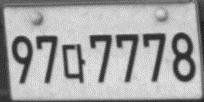7: (88, 34, 112, 82), (115, 33, 138, 83), (142, 32, 165, 82), (35, 35, 58, 83)
8: (170, 31, 196, 82)
9: (11, 34, 33, 83)
다: (61, 43, 86, 83)
